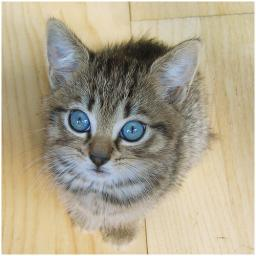catnose: (89, 154, 110, 166)
